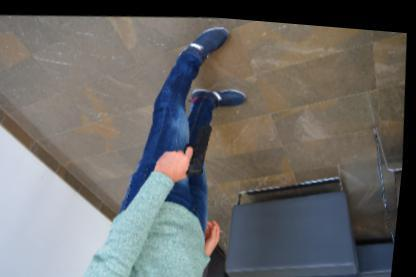pistol: (182, 119, 218, 175)
